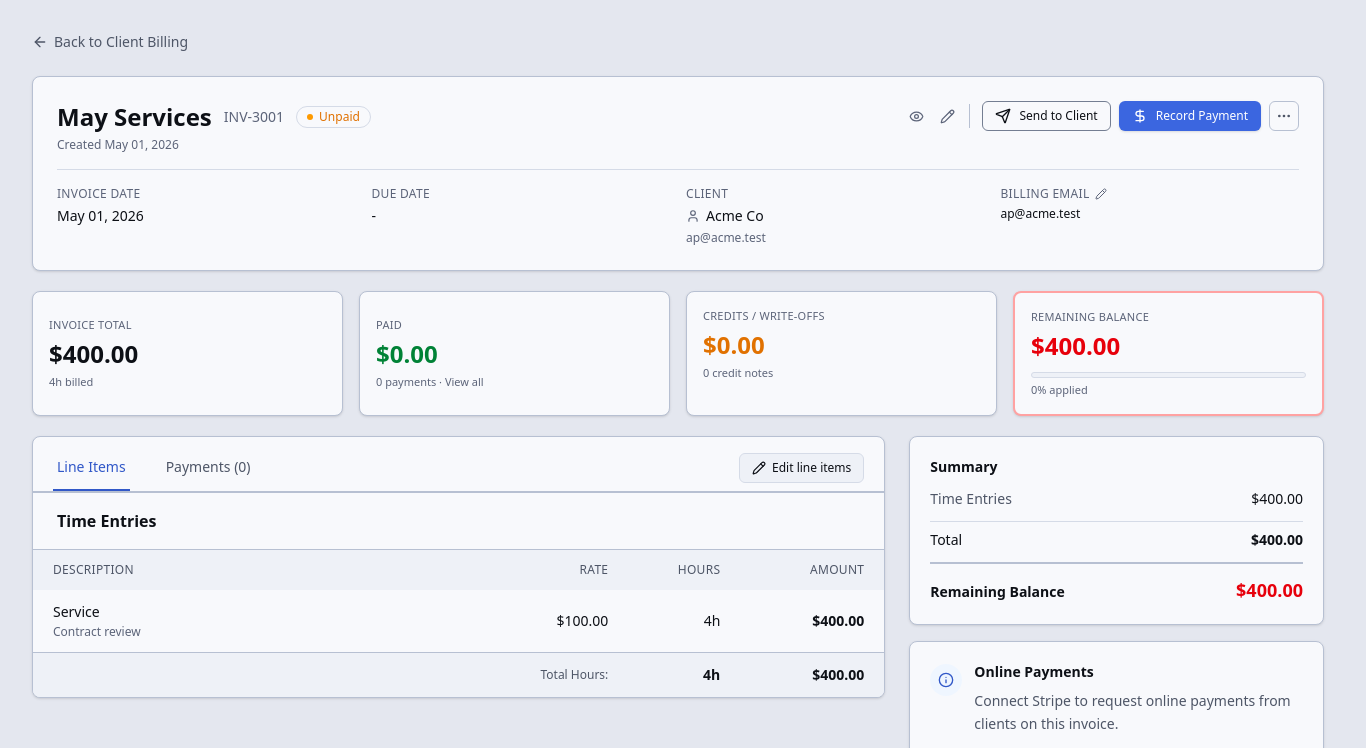
separates the Credit Note subtitle with a comma, not a literal "--"
Click the button named "More actions": point(1284, 116) [1269,101,1299,131]
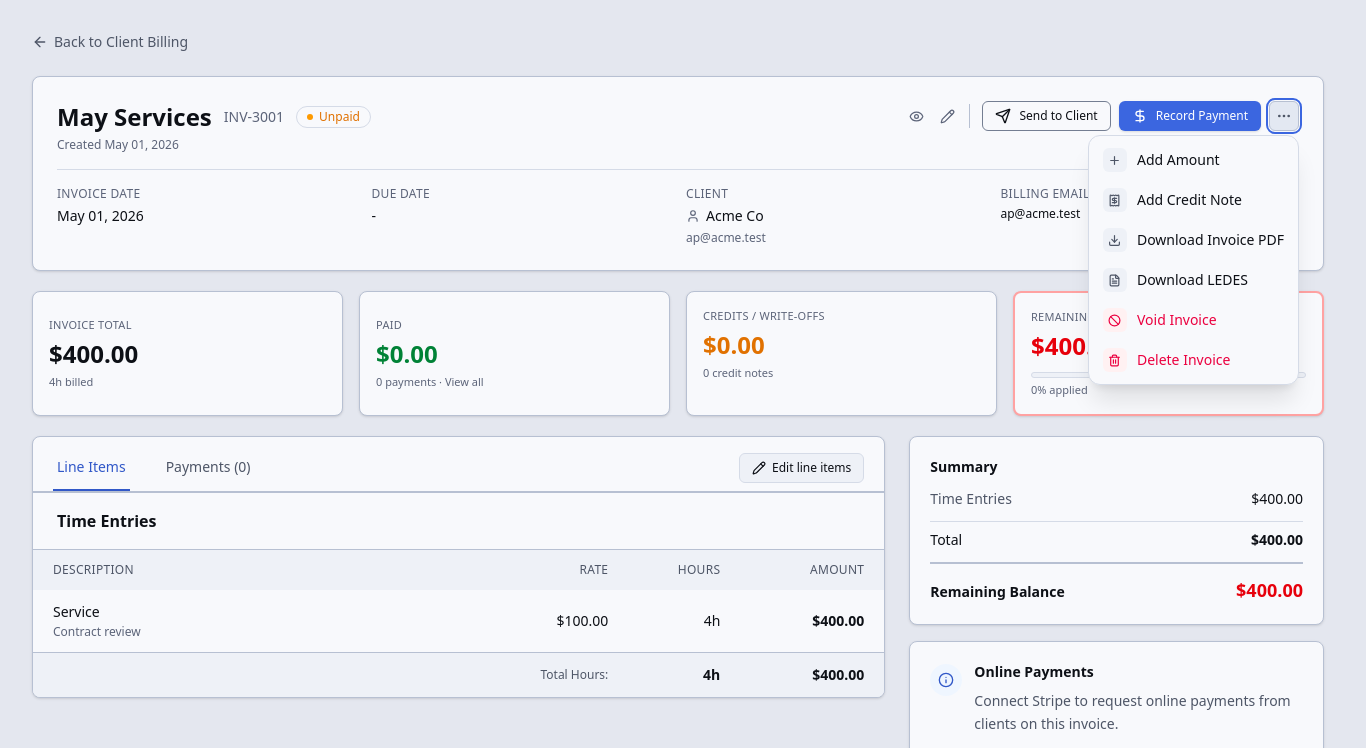
Click the button "Add Credit Note": point(1193, 200) [1093,180,1294,220]
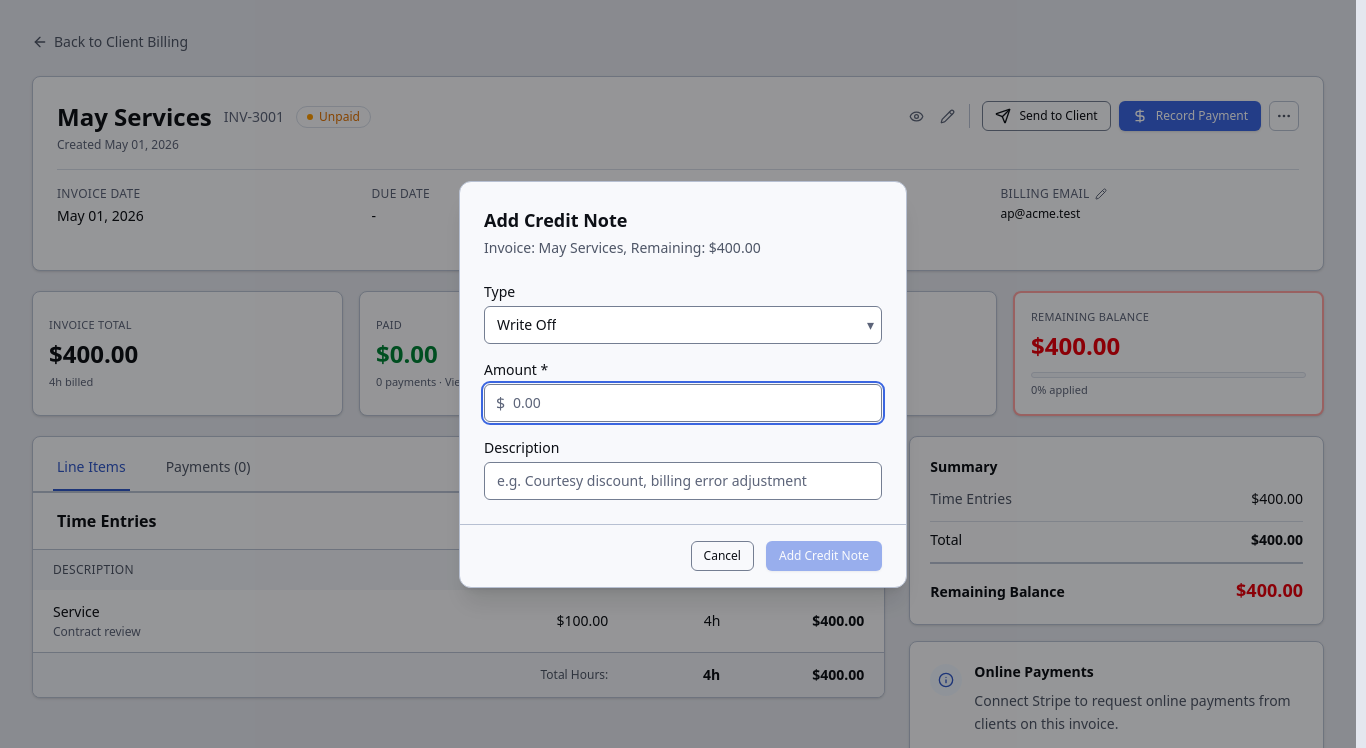
Check: the dialog "Add Credit Note" does not show "--", box [459,180,907,588]
Check: the text "Invoice: May Services, Remaining: $400.00" is shown, box [484,238,761,256]
